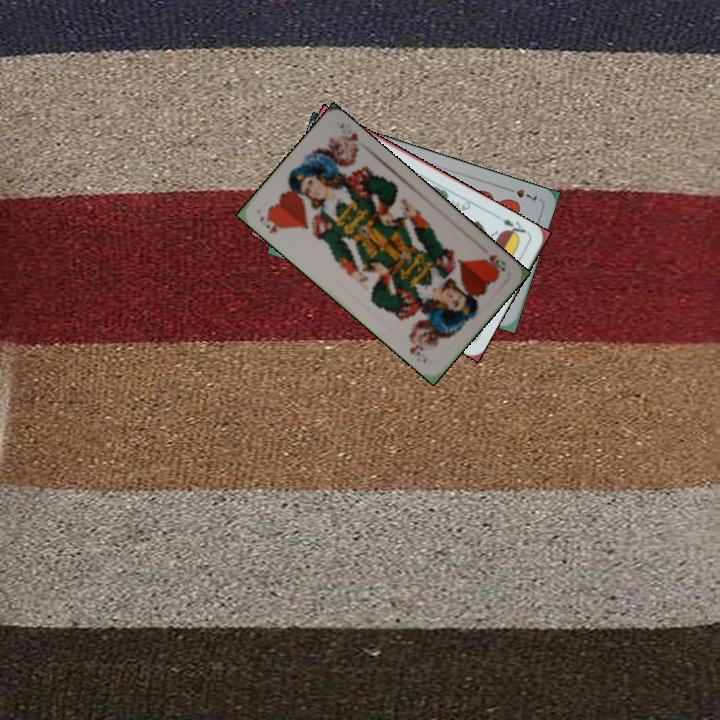EA: (494, 212, 532, 241)
H7: (502, 184, 540, 203)
HO: (477, 250, 509, 275), (255, 211, 287, 236)
